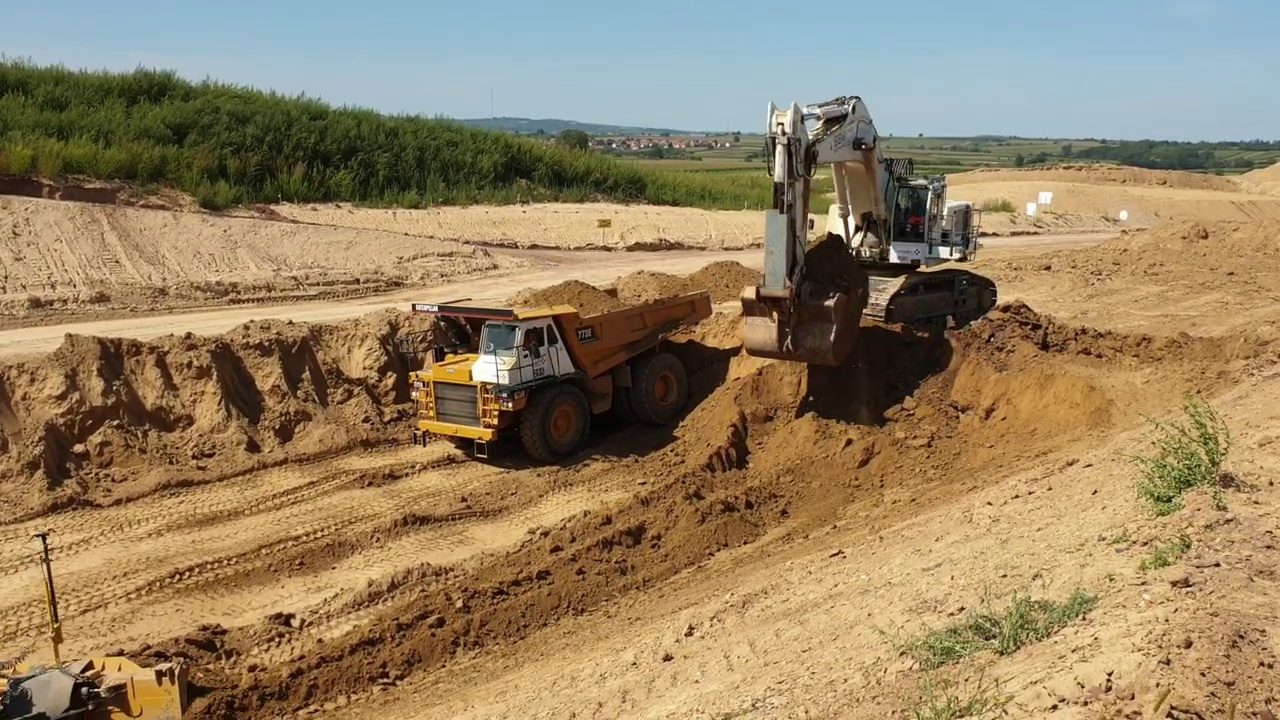excavator: (732, 88, 1005, 371)
truck: (401, 281, 719, 468)
